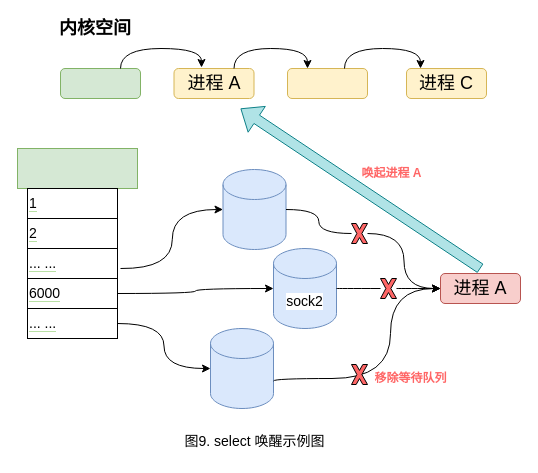
Image size: 538x473. Some labels were removed from this diagram. The shapes that lost their labels are listed below. From the top down, each one's box as (x1, y1, x2, y2) in pixels, then its label:
(60, 68, 140, 98): 工作队列
(286, 68, 368, 98): 进程 B
(16, 148, 138, 188): 文件列表(fd)
(222, 168, 286, 250): sock1
(210, 328, 274, 408): sock3
